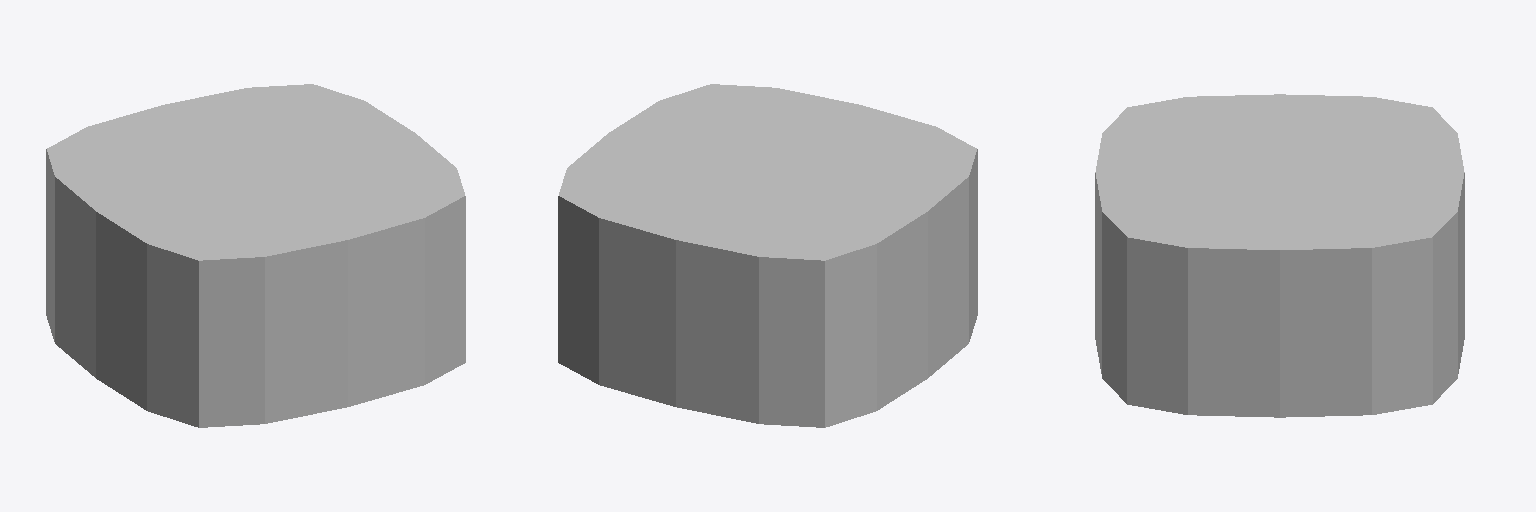
The model's file is towermid.obj.
3 renders of one model, left to right at view 1: azimuth 30°, elevation 25°; view 2: azimuth 150°, elevation 25°; view 3: azimuth 270°, elevation 25°, orthographic.
Parts seen in each view (by area): view 1: Cube; view 2: Cube; view 3: Cube.
Boxes of the visible parts, <box> form: Cube: <box>46,84,465,427</box>; Cube: <box>558,84,977,427</box>; Cube: <box>1095,94,1464,417</box>.
Size of the model in its own units: 2 by 1 by 2.